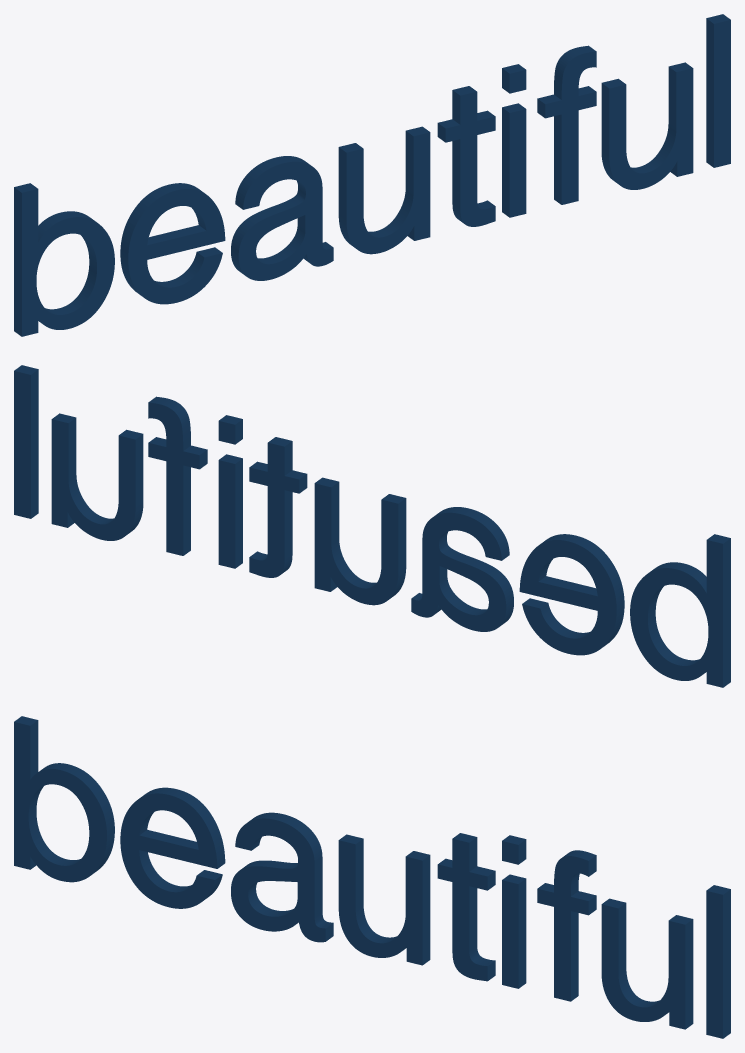
Rendered from beautiful.gltf.
3 renders of one model, top to bottom at view 1: azimuth 30°, elevation 25°; view 2: azimuth 150°, elevation 25°; view 3: azimuth 330°, elevation 25°, orthographic.
Bounding box in the file's own units: 5.22 × 1.05 × 0.1.
